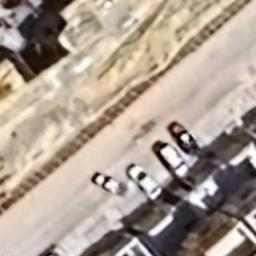SUV: (155, 141, 191, 179)
pickup: (92, 172, 130, 200)
sedan: (124, 162, 164, 204), (166, 119, 203, 157)
